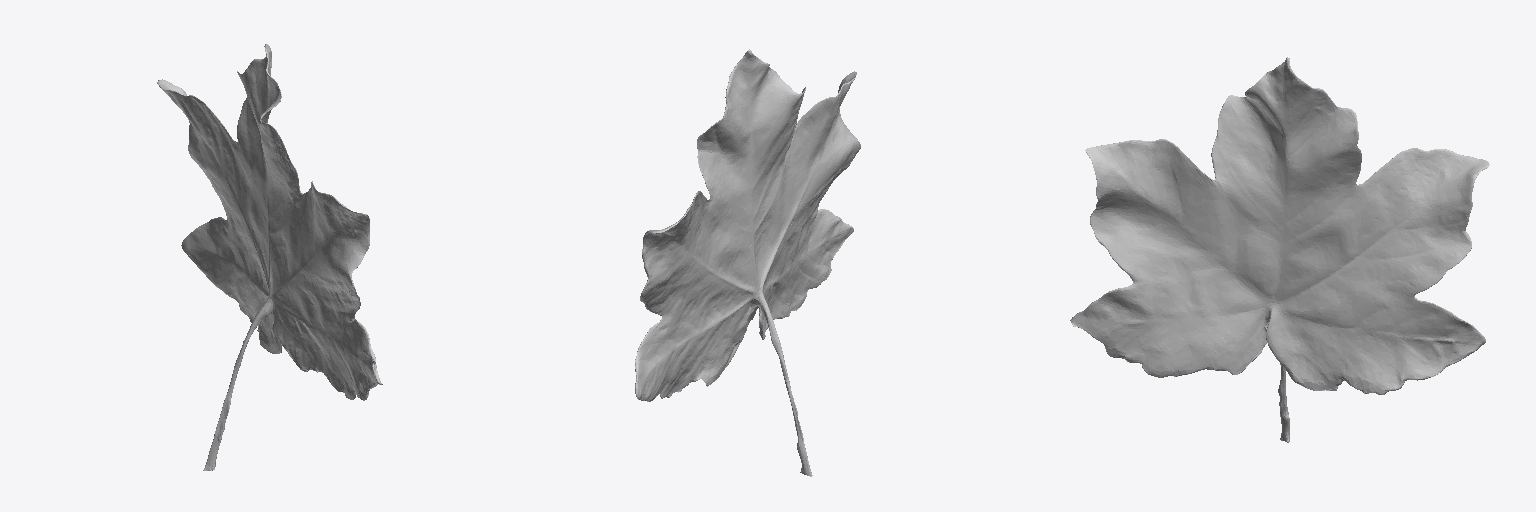
File: MapleLeaves.obj
3 renders of one model, left to right at view 1: azimuth 30°, elevation 25°; view 2: azimuth 150°, elevation 25°; view 3: azimuth 270°, elevation 25°, orthographic.
Visible parts, largest first — view 1: leaf.001; view 2: leaf.001; view 3: leaf.001.
Part boxes in pixels (bbox=[...]): leaf.001: bbox=[157, 44, 382, 470]; leaf.001: bbox=[635, 49, 860, 476]; leaf.001: bbox=[1070, 57, 1489, 442].
Bounding box in the file's own units: 3.89 × 15.6 × 14.41.